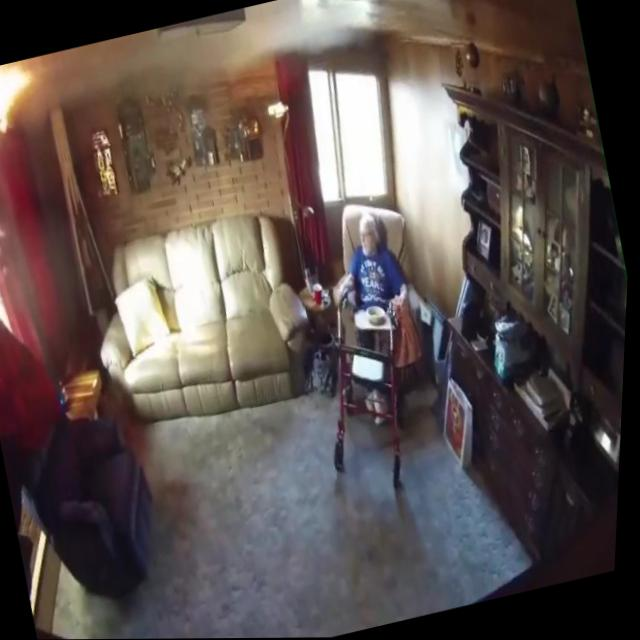fire: (0, 67, 45, 156)
